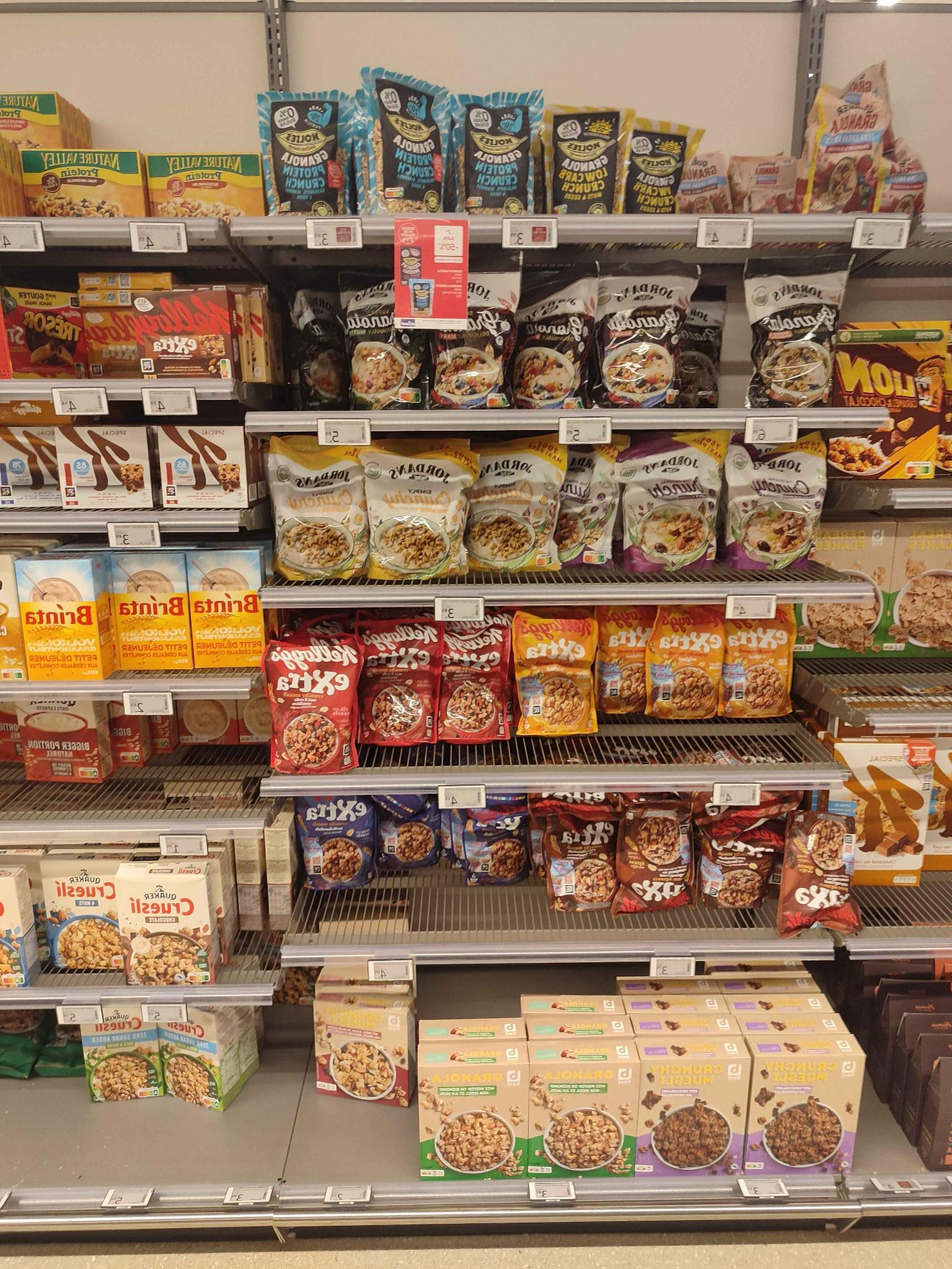shelf_bottom: (0, 802, 950, 1239)
shelf_middle: (0, 450, 951, 786)
shelf_top: (0, 3, 948, 435)
